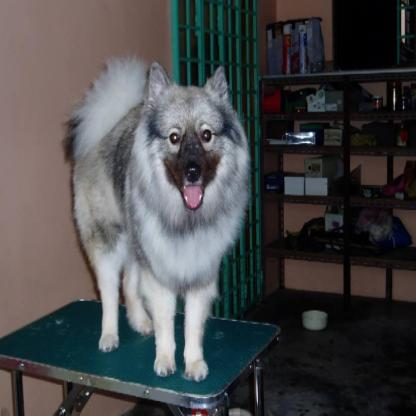keeshond: (58, 46, 248, 383)
